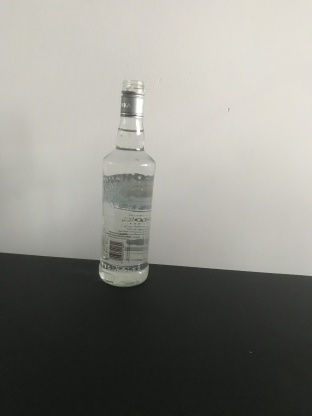nakretka: (118, 74, 146, 120)
